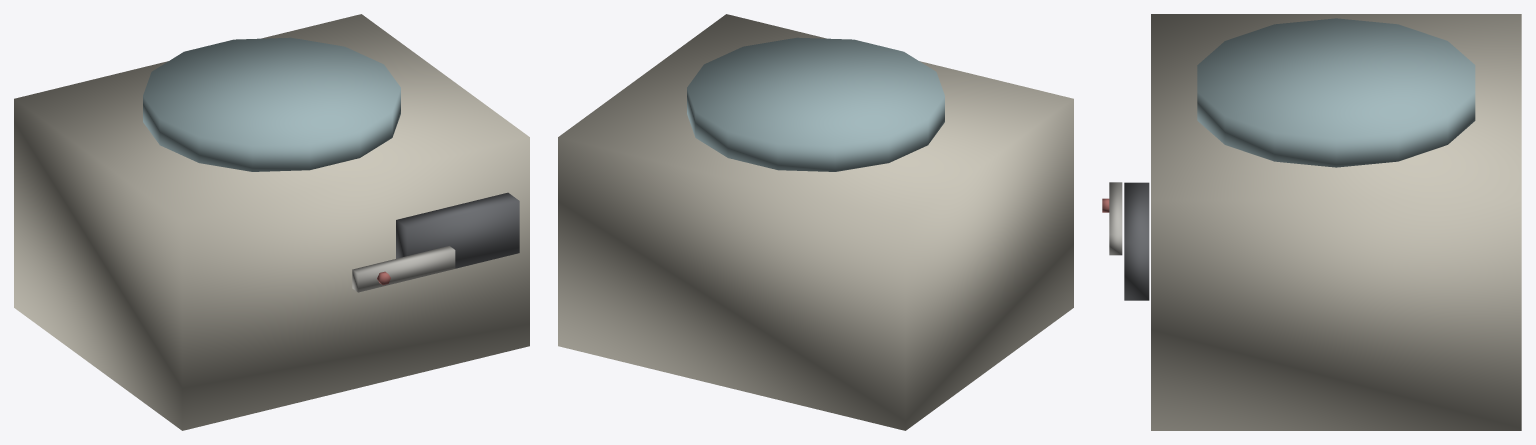
The model's file is centrifuge_bench_unit__reinforced.glb.
3 renders of one model, left to right at view 1: azimuth 30°, elevation 25°; view 2: azimuth 150°, elevation 25°; view 3: azimuth 270°, elevation 25°, orthographic. The views are drawn at different scales.
Visible parts, largest first — view 1: world; view 2: world; view 3: world.
Part boxes in pixels (left/top/right/bottom): world: left=14, top=14, right=529, bottom=430; world: left=558, top=14, right=1073, bottom=430; world: left=1102, top=14, right=1521, bottom=430.
Bounding box in the file's own units: 0.6386 × 0.4131 × 0.6062.
